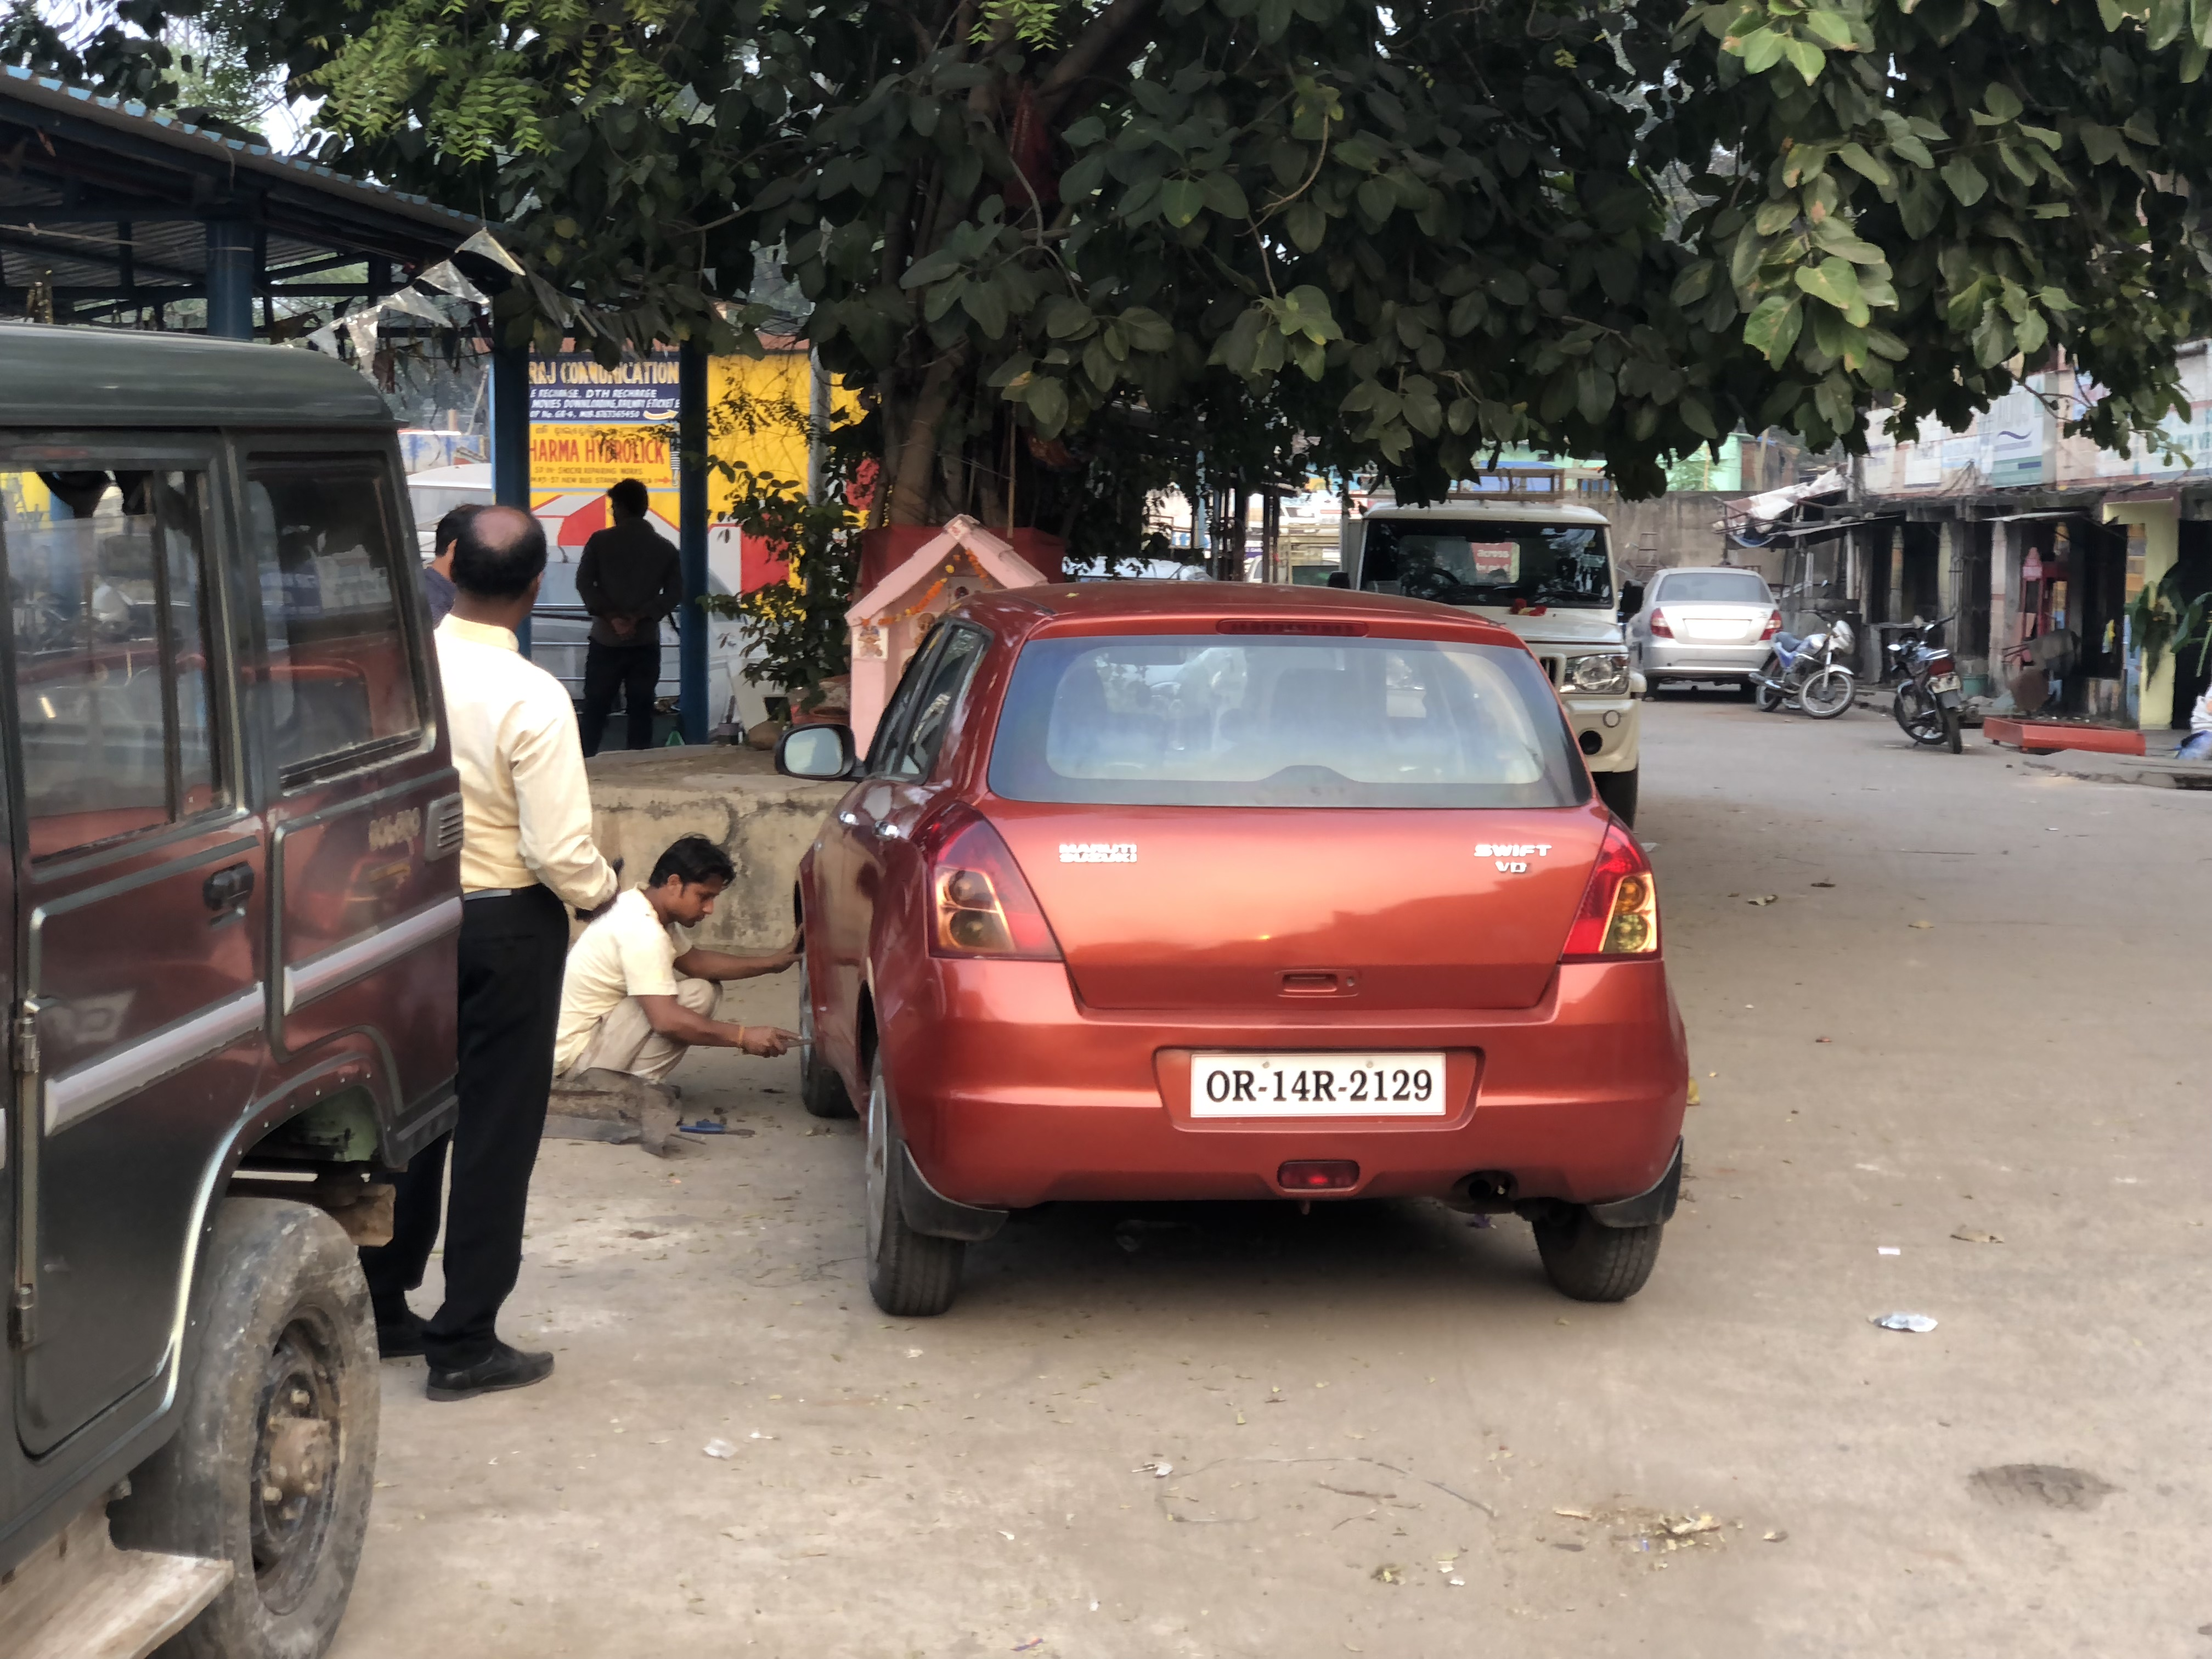licenseplate: (1183, 1032, 1457, 1136)
